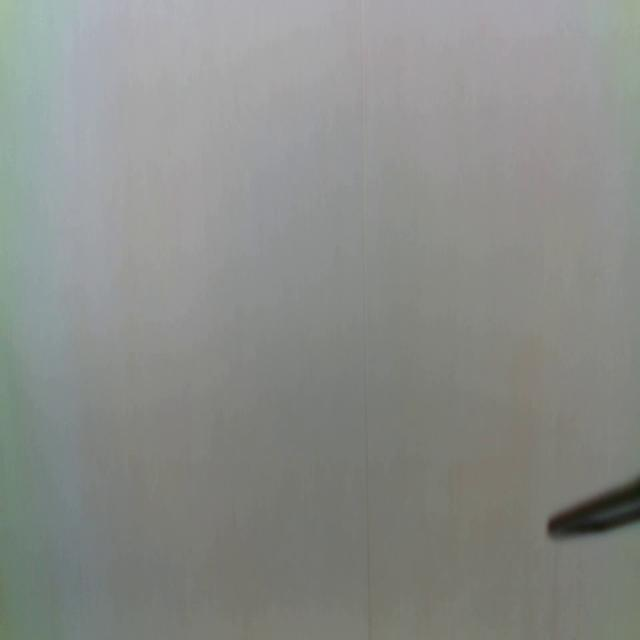crease: (359, 0, 372, 640)
